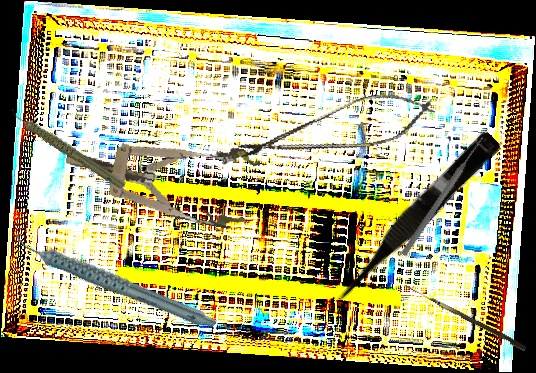Handpiece: (11, 193, 219, 367), (8, 85, 128, 210)
Hook Surgical: (401, 284, 528, 352)
Micro Scissor: (323, 126, 503, 311), (234, 81, 439, 178)
Pusher: (399, 133, 488, 258)
Speculum: (59, 116, 262, 233)
